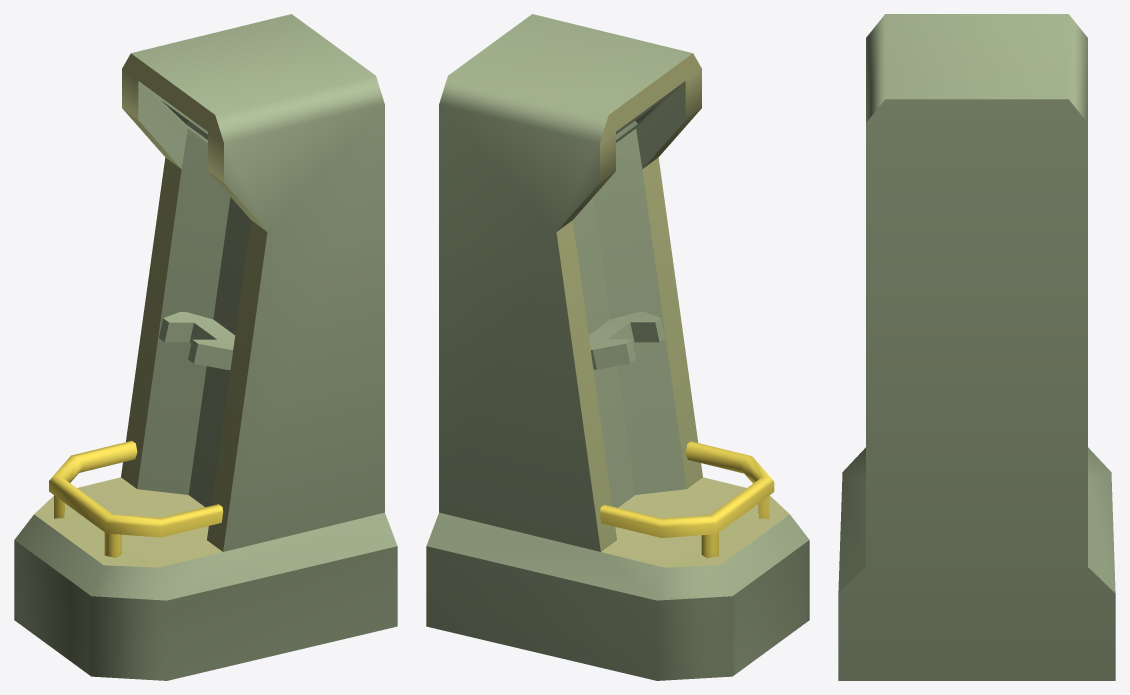
Rendered from MonoWeaponStand.fbx.
The picture shows the model from 3 angles, left to right: view 1: azimuth 30°, elevation 25°; view 2: azimuth 150°, elevation 25°; view 3: azimuth 270°, elevation 25°; orthographic projection. The views are drawn at different scales.
Parts seen in each view (by area): view 1: MonoWeaponStand; view 2: MonoWeaponStand; view 3: MonoWeaponStand.
Part boxes in pixels (x1,y1,x2,y2): MonoWeaponStand: (14,14,397,680); MonoWeaponStand: (426,14,809,680); MonoWeaponStand: (838,14,1115,680).
Bounding box in the file's own units: 152 × 277 × 120.
